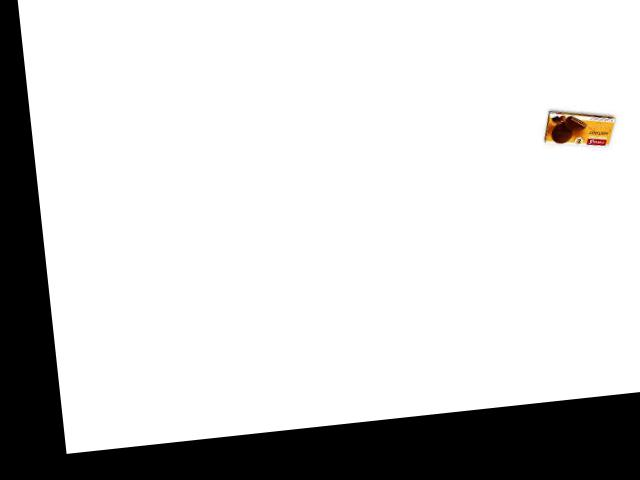chocolate: (537, 110, 629, 153)
